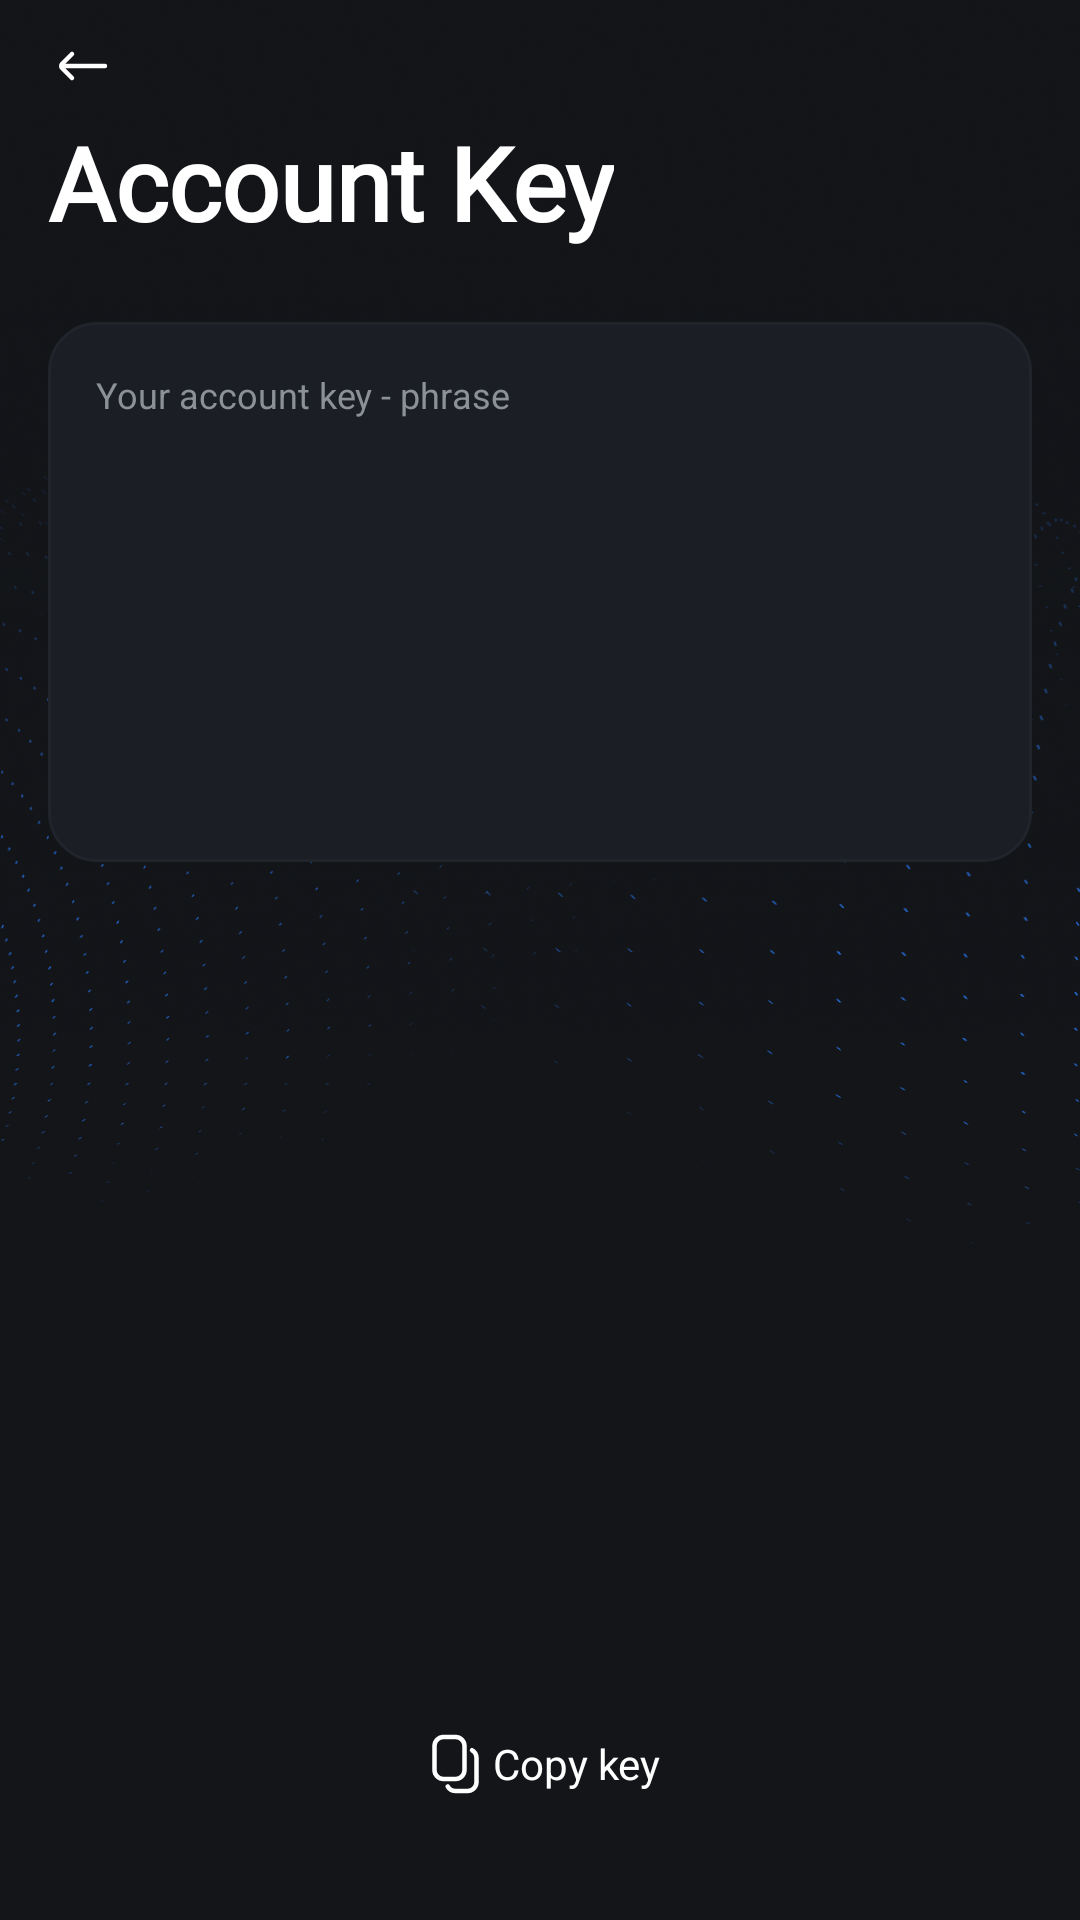

Icon bounding boxes for this 1080*1920 phone screenshot, format (x1, y1, x2, y2):
arrow left: (59, 51, 107, 81)
